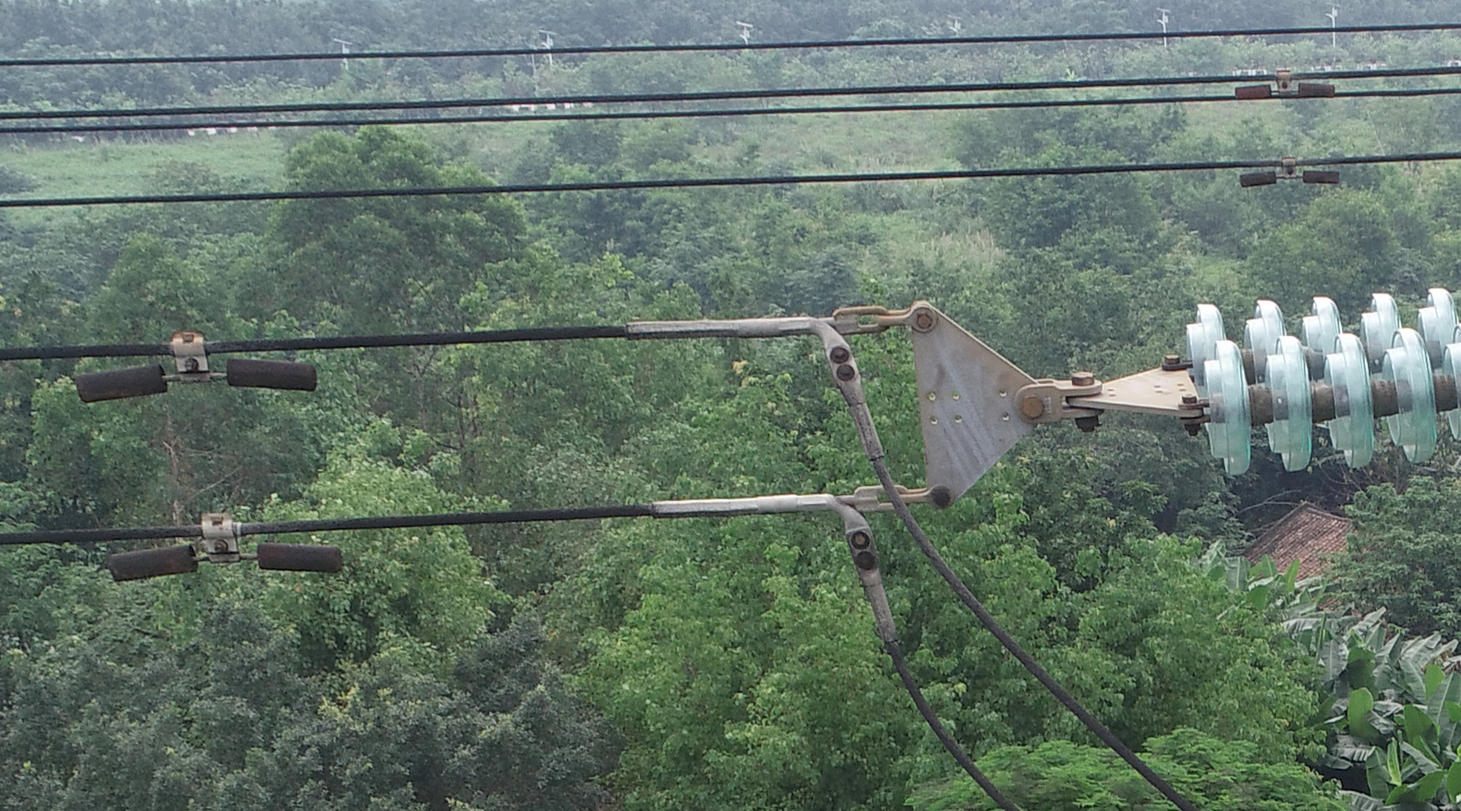damper: (73, 326, 325, 411), (105, 507, 349, 586), (1235, 156, 1345, 193), (1227, 69, 1344, 100)
